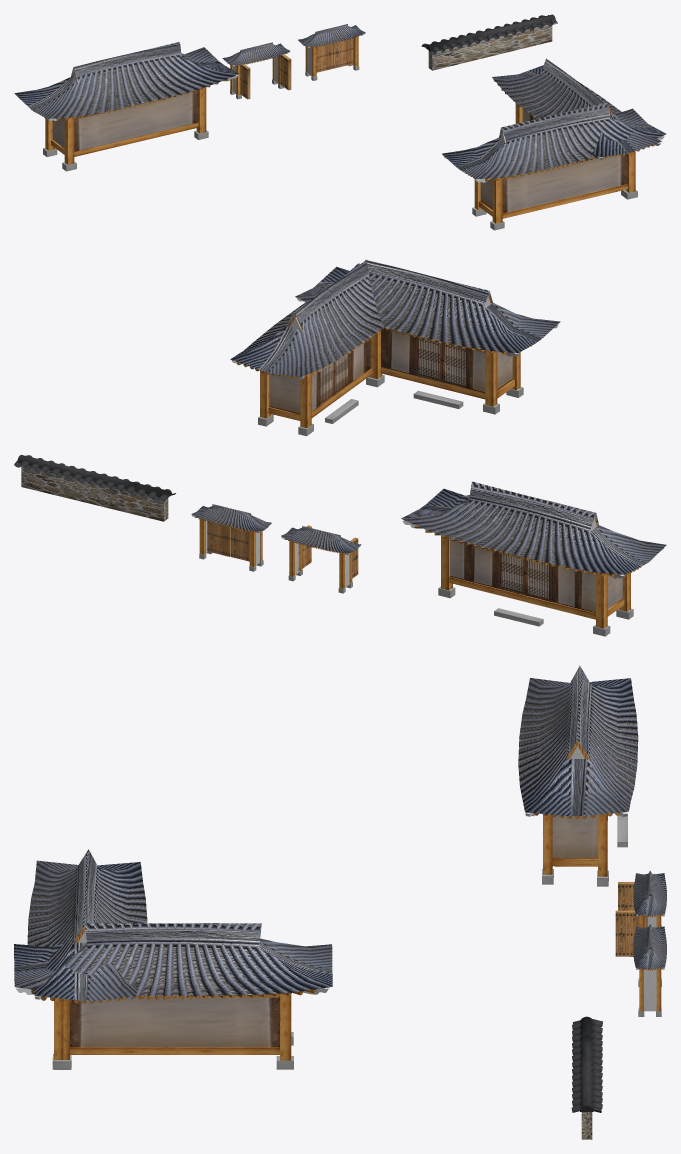
File: house1.FBX
3 renders of one model, top to bottom at view 1: azimuth 30°, elevation 25°; view 2: azimuth 150°, elevation 25°; view 3: azimuth 270°, elevation 25°, orthographic. The views are drawn at different scales.
Parts seen in each view (by area): view 1: house1, house2, fence, gate2, gate; view 2: house1, house2, fence, gate2, gate; view 3: house1, house2, fence, gate, gate2.
Boxes of the visible parts, bbox=[...] form: house1: bbox=[442, 58, 666, 230]; house2: bbox=[14, 42, 238, 171]; fence: bbox=[421, 14, 557, 70]; gate2: bbox=[298, 24, 365, 80]; gate: bbox=[222, 42, 291, 99]; house1: bbox=[230, 259, 560, 436]; house2: bbox=[401, 481, 666, 636]; fence: bbox=[14, 455, 175, 521]; gate2: bbox=[191, 504, 271, 571]; gate: bbox=[281, 525, 361, 593]; house1: bbox=[14, 849, 332, 1069]; house2: bbox=[518, 665, 638, 886]; fence: bbox=[571, 1016, 602, 1139]; gate: bbox=[615, 870, 666, 956]; gate2: bbox=[633, 924, 666, 1016].
Size of the model in its own units: 1830 by 308 by 1357.
